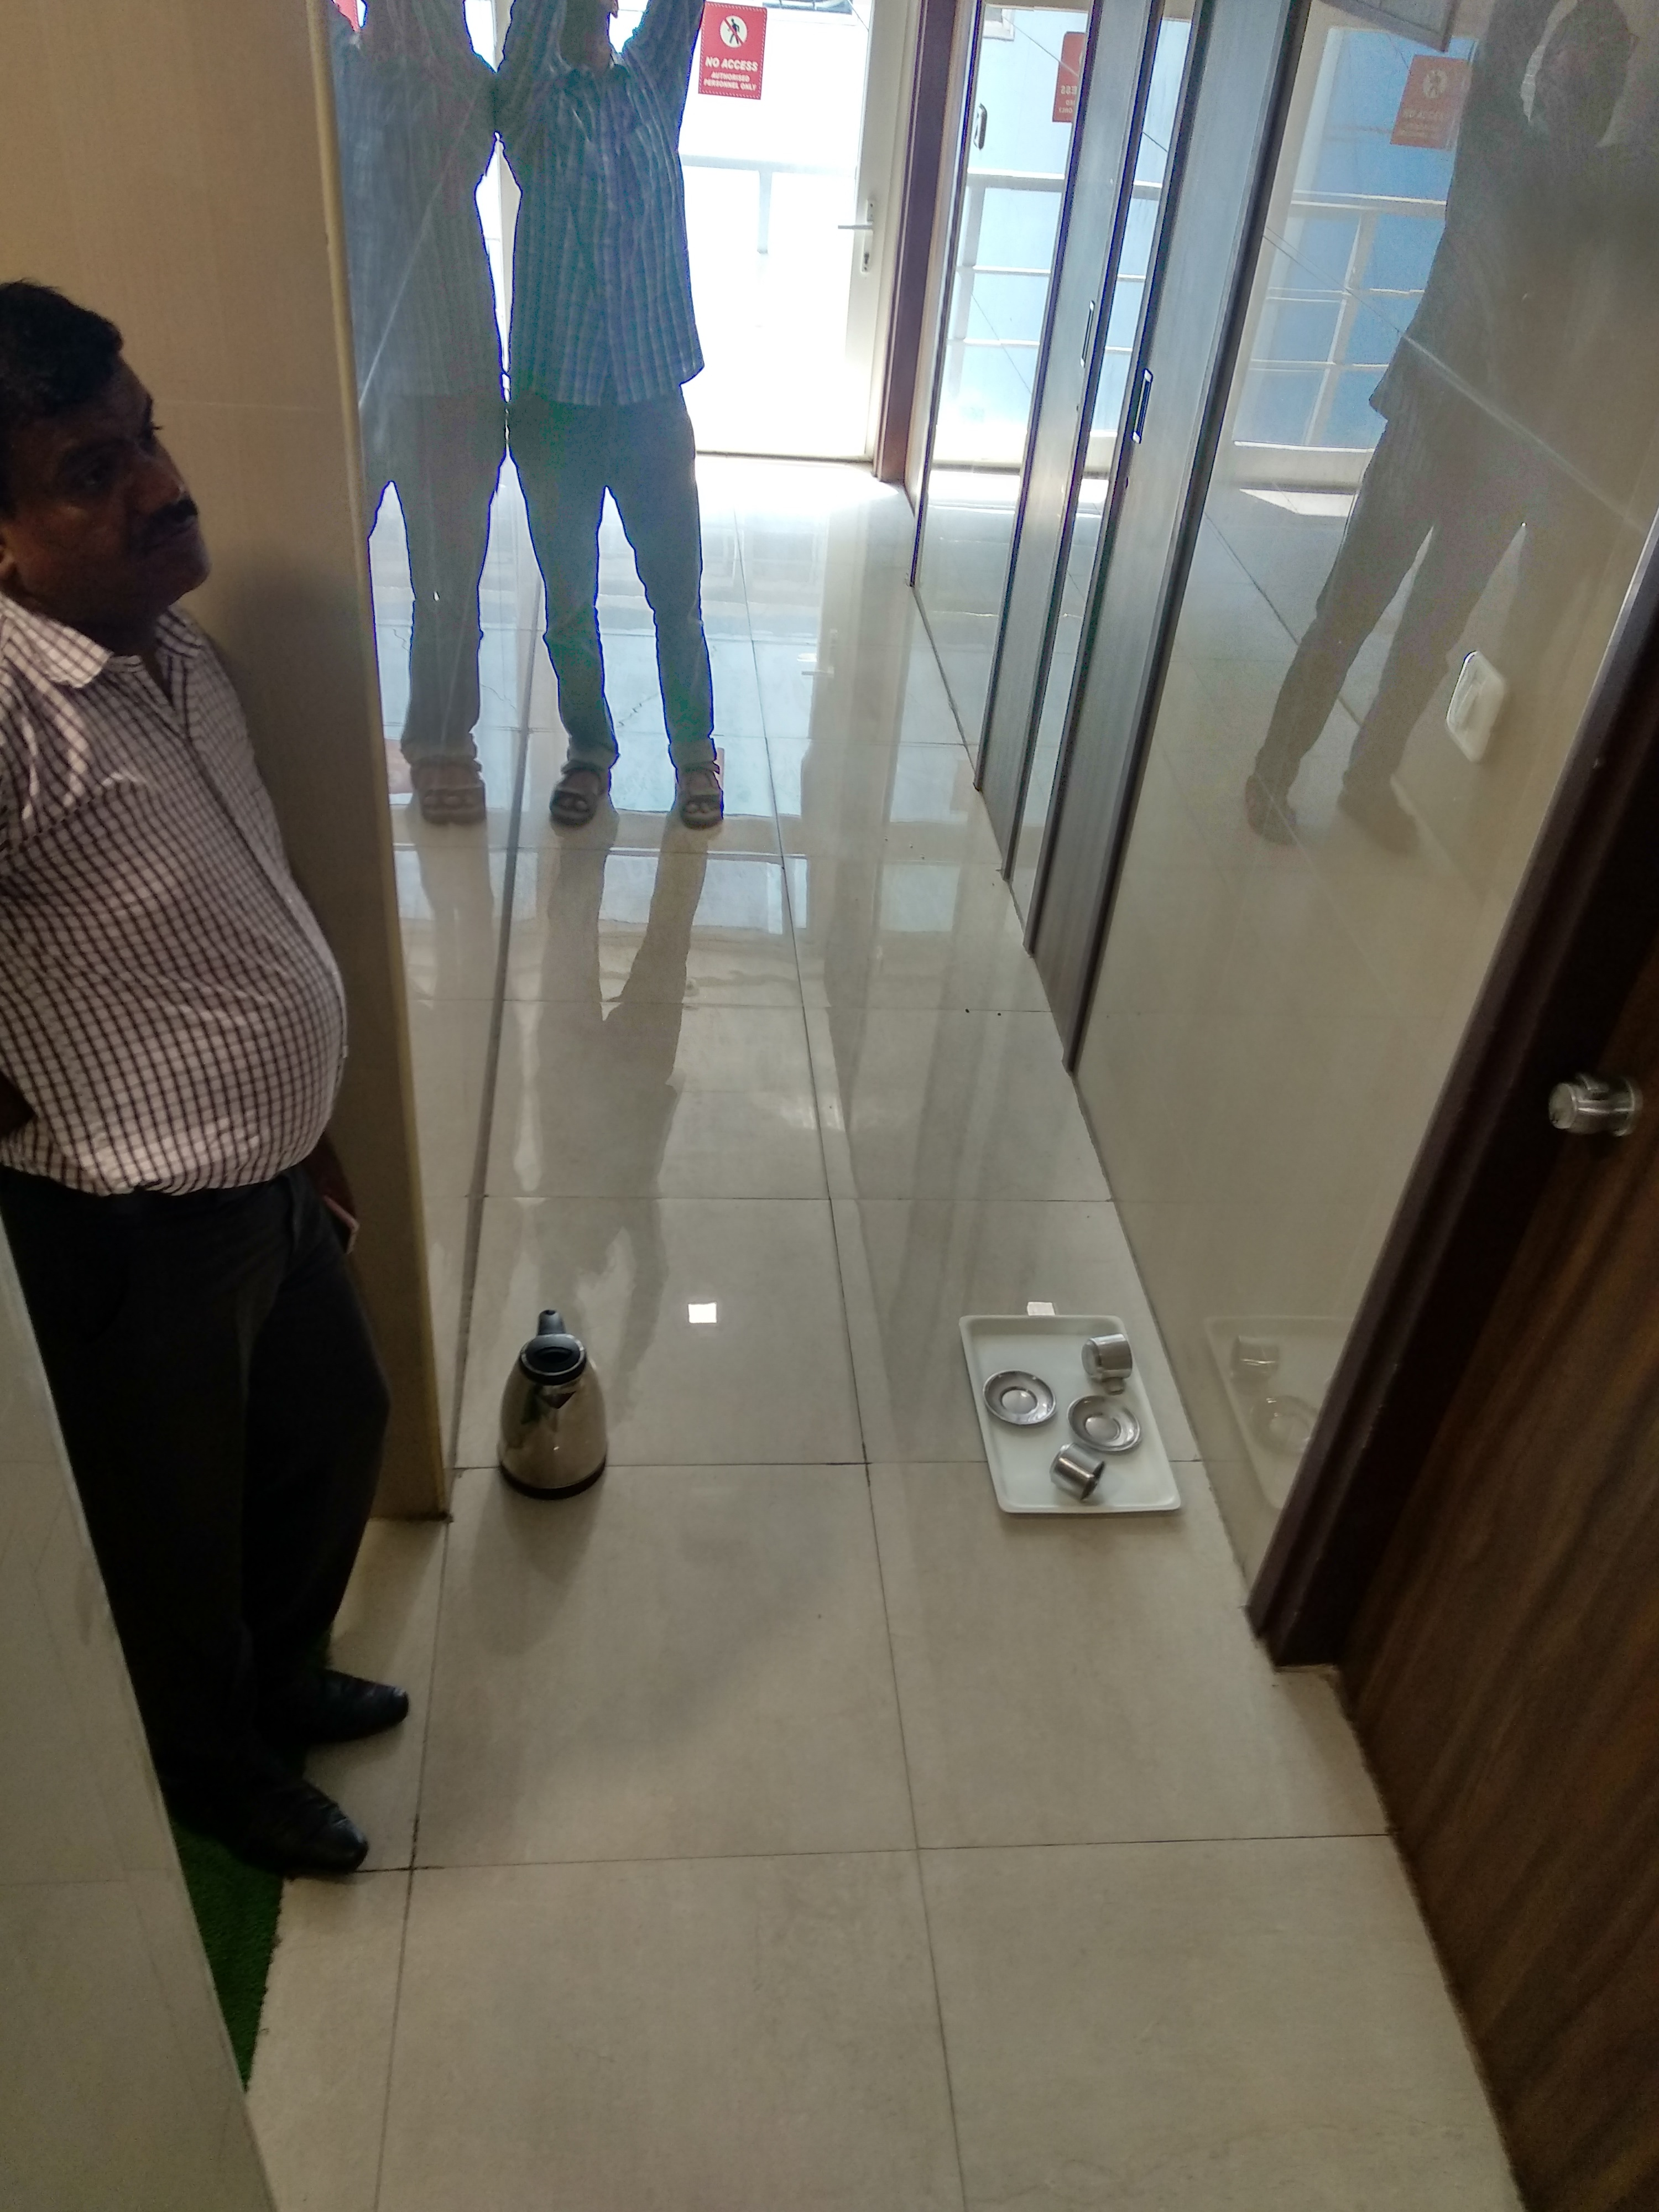CUP: (1053, 1444, 1107, 1498), (1084, 1329, 1134, 1379)
FLASK: (502, 1306, 599, 1503)
